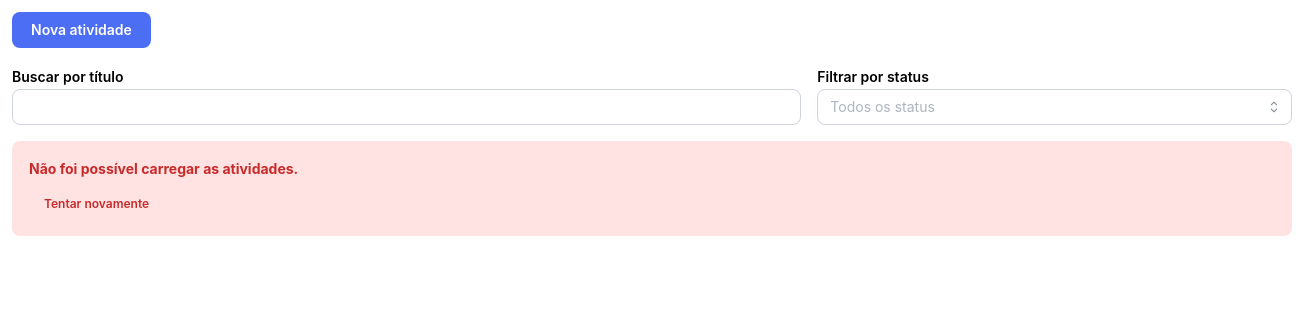
KanbanBoard › estados de carregamento, erro e vazio › mostra erro com "Tentar novamente" e recarrega ao clicar
Expected: the message shows "Não foi possível carregar as atividades.", [29,160,298,177]
Click the button "Tentar novamente" at coordinates (97, 204), box [29,190,164,220]
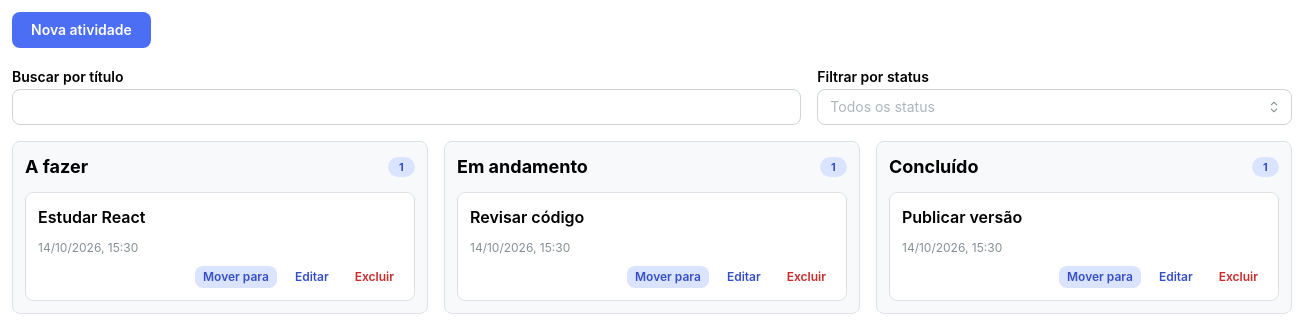
Result: the text "Estudar React" is shown at [38,207,146,227]
Result: the message "Não foi possível carregar as atividades. Tentar novamente" is gone
